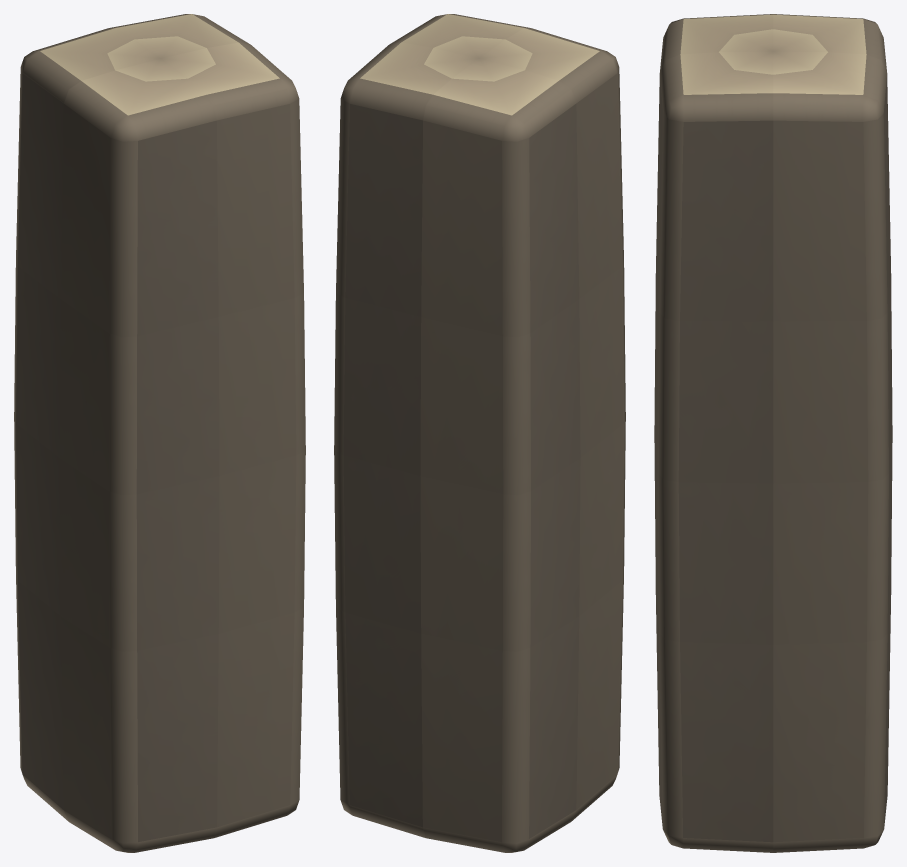
Rendered from DryWood_BranchSmall_Straight.fbx.
3 views of the same model, side by side, from view 1: azimuth 30°, elevation 25°; view 2: azimuth 150°, elevation 25°; view 3: azimuth 270°, elevation 25° (orthographic). The views are drawn at different scales.
Parts seen in each view (by area): view 1: DryWood_BranchSmall_Straight_LOD0; view 2: DryWood_BranchSmall_Straight_LOD0; view 3: DryWood_BranchSmall_Straight_LOD0.
Boxes of the visible parts, box(x1,y1,x2,y2) form: DryWood_BranchSmall_Straight_LOD0: box(14, 14, 305, 852); DryWood_BranchSmall_Straight_LOD0: box(334, 14, 625, 852); DryWood_BranchSmall_Straight_LOD0: box(654, 14, 892, 852).
Size of what is drawn, in the model's own units: 0.2913 by 1.04 by 0.2929.
